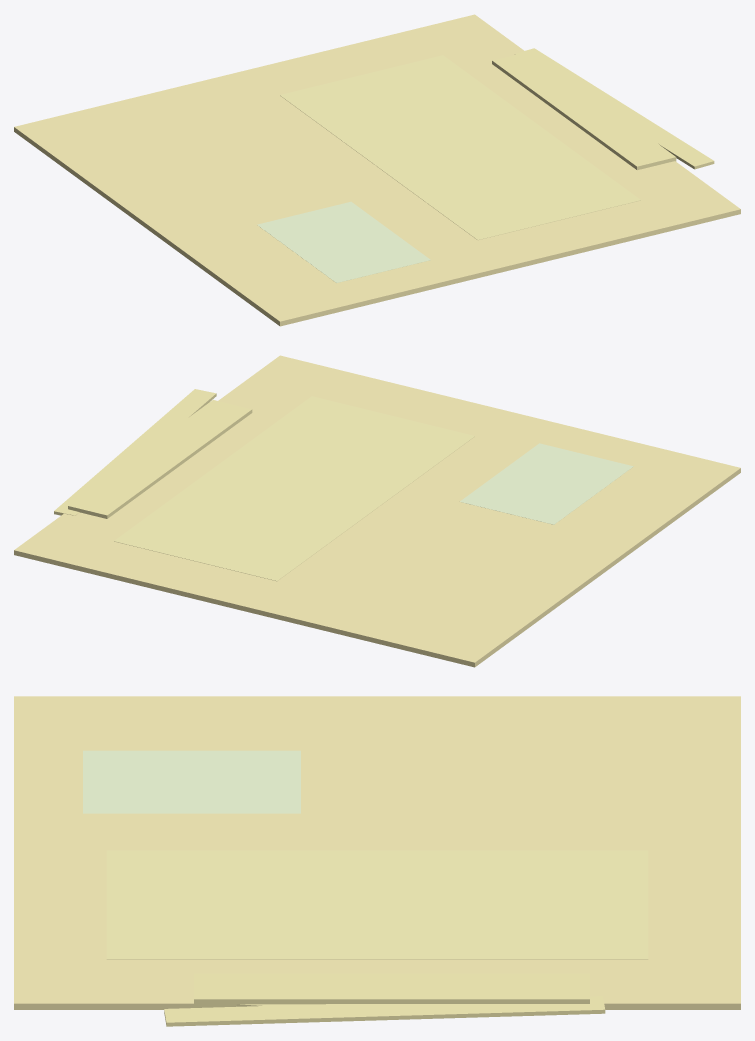
Rendered from road_workzone_material_laydown_bay.glb.
3 renders of one model, top to bottom at view 1: azimuth 30°, elevation 25°; view 2: azimuth 150°, elevation 25°; view 3: azimuth 270°, elevation 25°, orthographic. The views are drawn at different scales.
Parts seen in each view (by area): view 1: base, laydown_pad, steel_plate, stockpile_strip, windrow_left; view 2: base, laydown_pad, steel_plate, stockpile_strip, windrow_left; view 3: base, laydown_pad, steel_plate, stockpile_strip, windrow_left.
Part boxes in pixels (x1,y1,x2,y2): base: (14,14,740,326); laydown_pad: (280,55,640,240); steel_plate: (257,201,430,282); stockpile_strip: (492,51,676,170); windrow_left: (515,48,714,169); base: (14,355,740,667); laydown_pad: (114,396,474,581); steel_plate: (460,443,633,524); stockpile_strip: (68,400,252,518); windrow_left: (54,389,216,515); base: (14,696,740,1009); laydown_pad: (106,850,648,959); steel_plate: (83,750,300,813); stockpile_strip: (194,973,589,1007); windrow_left: (164,996,605,1026).
Size of the model in its own units: 4.25 by 0.07 by 4.
